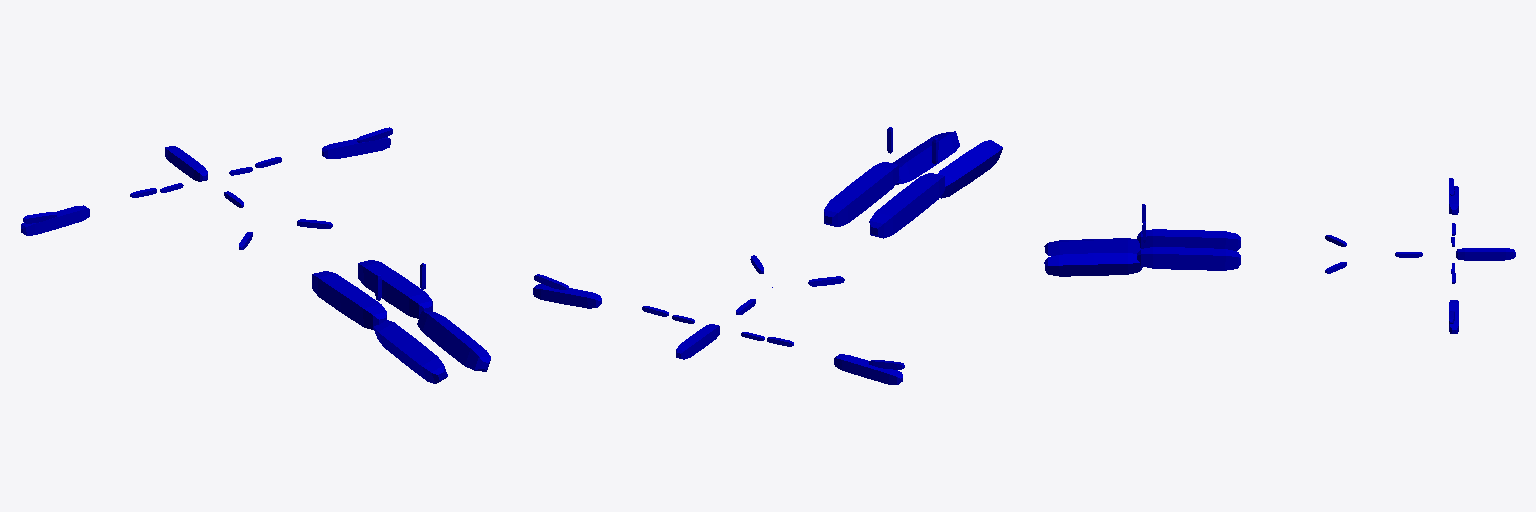
--- Facts derived from the render (not from the file) ---
Views: 3 orthographic renders of the robot side by side, from view 1: azimuth 30°, elevation 25°; view 2: azimuth 150°, elevation 25°; view 3: azimuth 270°, elevation 25°.
Model rocketbox_male with 64 links and 63 joints (57 revolute, 3 continuous, 3 prismatic), rooted at root_link, posed every joint at zero.
Links seen in each view (by area): view 1: RightLeg_x_link, LeftLeg_x_link, RightFoot_x_link, LeftFoot_x_link, RightForeArm_x_link, LeftForeArm_x_link, Spine1_x_link; view 2: RightLeg_x_link, LeftLeg_x_link, RightFoot_x_link, LeftFoot_x_link, RightForeArm_x_link, LeftForeArm_x_link, Spine1_x_link; view 3: LeftLeg_x_link, LeftFoot_x_link, RightLeg_x_link, RightFoot_x_link, Spine1_x_link.
Link boxes in pixels (left/top/right/bottom): RightLeg_x_link: left=312, top=271, right=386, bottom=329; LeftLeg_x_link: left=358, top=260, right=432, bottom=318; RightFoot_x_link: left=373, top=319, right=447, bottom=383; LeftFoot_x_link: left=417, top=311, right=490, bottom=371; RightForeArm_x_link: left=21, top=205, right=89, bottom=235; LeftForeArm_x_link: left=322, top=137, right=390, bottom=158; Spine1_x_link: left=165, top=146, right=207, bottom=181; RightLeg_x_link: left=869, top=173, right=944, bottom=238; LeftLeg_x_link: left=824, top=162, right=898, bottom=226; RightFoot_x_link: left=938, top=140, right=1002, bottom=198; LeftFoot_x_link: left=893, top=131, right=959, bottom=184; RightForeArm_x_link: left=834, top=354, right=902, bottom=384; LeftForeArm_x_link: left=533, top=284, right=601, bottom=308; Spine1_x_link: left=676, top=324, right=719, bottom=359; LeftLeg_x_link: left=1137, top=247, right=1240, bottom=270; LeftFoot_x_link: left=1044, top=253, right=1142, bottom=276; RightLeg_x_link: left=1137, top=229, right=1240, bottom=250; RightFoot_x_link: left=1044, top=238, right=1140, bottom=255; Spine1_x_link: left=1456, top=248, right=1515, bottom=260.
Size in the robot's own frame: 1.45 by 2.02 by 0.2526 metres.
Meshes: 19 distinct files referenced, 18 mesh visuals loaded (18 OBJ); not drawn: 1 (reference not matched to a file when rendering).

robot.urdf — rocketbox_male:
<?xml version="1.0"?>
<robot xmlns:sensor="http://playerstage.sourceforge.net/gazebo/xmlschema/#sensor"
       xmlns:controller="http://playerstage.sourceforge.net/gazebo/xmlschema/#controller"
       xmlns:interface="http://playerstage.sourceforge.net/gazebo/xmlschema/#interface"
       xmlns:xacro="http://playerstage.sourceforge.net/gazebo/xmlschema/#interface"
       name="rocketbox_male" >

    <material name="Blue">
      <color rgba="0.0 0.0 0.8 1.0"/>
    </material>
    <material name="Green">
      <color rgba="0.0 0.8 0.0 1.0"/>
    </material>
    <material name="Grey">
      <color rgba="0.7 0.7 0.7 1.0"/>
    </material>
    <material name="Grey2">
      <color rgba="0.9 0.9 0.9 1.0"/>
    </material>
    <material name="Red">
      <color rgba="0.8 0.0 0.0 1.0"/>
    </material>
    <material name="White">
      <color rgba="1.0 1.0 1.0 1.0"/>
    </material>
    <material name="Black">
      <color rgba="0.1 0.1 0.1 1.0"/>
    </material>
    <material name="LightGrey">
      <color rgba="0.6 0.6 0.6 1.0"/>
    </material>

    <link name="root_link"/>
      <link name="base_prismatic_dummy1">
        <visual>
          <origin rpy="0 0 0" xyz="0 0 0"/>
          <geometry>
            <box size="0.001 0.001 0.001"/>
          </geometry>
          <material name="Blue"/>
        </visual>
      </link>
      <link name="base_prismatic_dummy2">
        <visual>
          <origin rpy="0 0 0" xyz="0 0 0"/>
          <geometry>
            <box size="0.001 0.001 0.001"/>
          </geometry>
          <material name="Blue"/>
        </visual>
      </link>
      <link name="base_prismatic_dummy3">
        <visual>
          <origin rpy="0 0 0" xyz="0 0 0"/>
          <geometry>
            <box size="0.001 0.001 0.001"/>
          </geometry>
          <material name="Blue"/>
        </visual>
      </link>
      <link name="base_revolute_dummy1">
        <visual>
          <origin rpy="0 0 0" xyz="0 0 0"/>
          <geometry>
            <box size="0.001 0.001 0.001"/>
          </geometry>
          <material name="Blue"/>
        </visual>
      </link>
      <link name="base_revolute_dummy2">
        <visual>
          <origin rpy="0 0 0" xyz="0 0 0"/>
          <geometry>
            <box size="0.001 0.001 0.001"/>
          </geometry>
          <material name="Blue"/>
        </visual>
      </link>
      <joint name="base_prismatic_joint_x" type="prismatic">
        <axis xyz="1 0 0"/>
        <limit effort="10000" lower ="-5.0" upper="5.0" velocity ="0.6"/>
        <origin rpy="0 0 0" xyz="0 0 1.1713"/>
        <parent link="root_link"/>
        <child link="base_prismatic_dummy1"/>
      </joint>
      <joint name="base_prismatic_joint_y" type="prismatic">
        <axis xyz="0 1 0"/>
        <limit effort="10000" lower ="-5.0" upper="5.0" velocity ="0.6"/>
        <origin rpy="0 0 0" xyz="0 0 0"/>
        <parent link="base_prismatic_dummy1"/>
        <child link="base_prismatic_dummy2"/>
      </joint>
      <joint name="base_prismatic_joint_z" type="prismatic">
        <axis xyz="0 0 1"/>
        <limit effort="10000" lower ="-5.0" upper="5.0" velocity ="0.6"/>
        <origin rpy="0 0 0" xyz="0 0 0"/>
        <parent link="base_prismatic_dummy2"/>
        <child link="base_prismatic_dummy3"/>
      </joint>
      <joint name="base_revolute_joint_x" type="continuous">
        <axis xyz="1 0 0"/>
        <origin rpy="0 0 0" xyz="0 0 0"/>
        <parent link="base_prismatic_dummy3"/>
        <child link="base_revolute_dummy1"/>
      </joint>
      <joint name="base_revolute_joint_y" type="continuous">
        <axis xyz="0 1 0"/>
        <origin rpy="0 0 0" xyz="0 0 0"/>
        <parent link="base_revolute_dummy1"/>
        <child link="base_revolute_dummy2"/>
      </joint>
      <joint name="base_revolute_joint_z" type="continuous">
        <axis xyz="0 0 1"/>
        <origin rpy="0 0 0" xyz="0 0 0"/>
        <parent link="base_revolute_dummy2"/>
        <child link="pelvis_link"/>
      </joint>
      <link name="pelvis_link"/>
      <link name="RightUpLeg_z_link"/>
      <link name="RightUpLeg_y_link"/>
      <link name="RightUpLeg_x_link">
        <visual>
          <origin rpy="0 0 0" xyz="0 0 0"/>
          <geometry>
            <mesh filename="../rami/model/RightUpLeg.obj"/>
          </geometry>
          <material name="Blue"/>
        </visual>
        <collision>
          <origin rpy="0 0 0" xyz="0 0 0"/>
          <geometry>
            <mesh filename="../rami/model/RightUpLeg.obj"/>
          </geometry>
        </collision>
      </link>
      <joint name="RightUpLeg_z_joint" type ="revolute">
          <axis xyz="0 0 1"/>
          <limit effort="10000" lower ="-3.14" upper="3.14" velocity ="0.6"/>
          <origin rpy="0 0 0" xyz="-0.089458 -0.0866707 0.00101652"/>
          <parent link="pelvis_link"/>
          <child link="RightUpLeg_z_link"/>
      </joint>
      <joint name="RightUpLeg_y_joint" type ="revolute">
          <axis xyz="0 1 0"/>
          <limit effort="10000" lower ="-3.14" upper="3.14" velocity ="0.6"/>
          <origin rpy="0 0 0" xyz="0 0 0"/>
          <parent link="RightUpLeg_z_link"/>
          <child link="RightUpLeg_y_link"/>
      </joint>
      <joint name="RightUpLeg_x_joint" type ="revolute">
          <axis xyz="1 0 0"/>
          <limit effort="10000" lower ="-3.14" upper="3.14" velocity ="0.6"/>
          <origin rpy="0 0 0" xyz="0 0 0"/>
          <parent link="RightUpLeg_y_link"/>
          <child link="RightUpLeg_x_link"/>
      </joint>
      <link name="RightLeg_z_link"/>
      <link name="RightLeg_y_link"/>
      <link name="RightLeg_x_link">
        <visual>
          <origin rpy="0 0 0" xyz="0 0 0"/>
          <geometry>
            <mesh filename="../rami/model/RightLeg.obj"/>
          </geometry>
          <material name="Blue"/>
        </visual>
        <collision>
          <origin rpy="0 0 0" xyz="0 0 0"/>
          <geometry>
            <mesh filename="../rami/model/RightLeg.obj"/>
          </geometry>
        </collision>
      </link>
      <joint name="RightLeg_z_joint" type ="revolute">
          <axis xyz="0 0 1"/>
          <limit effort="10000" lower ="-3.14" upper="3.14" velocity ="0.6"/>
          <origin rpy="0 0 0" xyz="0 -0.444227 0.013727"/>
          <parent link="RightUpLeg_x_link"/>
          <child link="RightLeg_z_link"/>
      </joint>
      <joint name="RightLeg_y_joint" type ="revolute">
          <axis xyz="0 1 0"/>
          <limit effort="10000" lower ="-3.14" upper="3.14" velocity ="0.6"/>
          <origin rpy="0 0 0" xyz="0 0 0"/>
          <parent link="RightLeg_z_link"/>
          <child link="RightLeg_y_link"/>
      </joint>
      <joint name="RightLeg_x_joint" type ="revolute">
          <axis xyz="1 0 0"/>
          <limit effort="10000" lower ="-3.14" upper="3.14" velocity ="0.6"/>
          <origin rpy="0 0 0" xyz="0 0 0"/>
          <parent link="RightLeg_y_link"/>
          <child link="RightLeg_x_link"/>
      </joint>
      <link name="RightFoot_z_link"/>
      <link name="RightFoot_y_link"/>
      <link name="RightFoot_x_link">
        <visual>
          <origin rpy="0 0 0" xyz="0 0 0"/>
          <geometry>
            <mesh filename="../rami/model/RightFoot.obj"/>
          </geometry>
          <material name="Blue"/>
        </visual>
        <collision>
          <origin rpy="0 0 0" xyz="0 0 0"/>
          <geometry>
            <mesh filename="../rami/model/RightFoot.obj"/>
          </geometry>
        </collision>
      </link>
      <joint name="RightFoot_z_joint" type ="revolute">
          <axis xyz="0 0 1"/>
          <limit effort="10000" lower ="-3.14" upper="3.14" velocity ="0.6"/>
          <origin rpy="0 0 0" xyz="0.00253549 -0.420924 -0.0146059"/>
          <parent link="RightLeg_x_link"/>
          <child link="RightFoot_z_link"/>
      </joint>
      <joint name="RightFoot_y_joint" type ="revolute">
          <axis xyz="0 1 0"/>
          <limit effort="10000" lower ="-3.14" upper="3.14" velocity ="0.6"/>
          <origin rpy="0 0 0" xyz="0 0 0"/>
          <parent link="RightFoot_z_link"/>
          <child link="RightFoot_y_link"/>
      </joint>
      <joint name="RightFoot_x_joint" type ="revolute">
          <axis xyz="1 0 0"/>
          <limit effort="10000" lower ="-3.14" upper="3.14" velocity ="0.6"/>
          <origin rpy="0 0 0" xyz="0 0 0"/>
          <parent link="RightFoot_y_link"/>
          <child link="RightFoot_x_link"/>
      </joint>
      <link name="RightToes_z_link"/>
      <link name="RightToes_y_link"/>
      <link name="RightToes_x_link">
        <visual>
          <origin rpy="0 0 0" xyz="0 0 0"/>
          <geometry>
            <mesh filename="../rami/model/RightToes.obj"/>
          </geometry>
          <material name="Blue"/>
        </visual>
        <collision>
          <origin rpy="0 0 0" xyz="0 0 0"/>
          <geometry>
            <mesh filename="../rami/model/RightToes.obj"/>
          </geometry>
        </collision>
      </link>
      <joint name="RightToes_z_joint" type ="revolute">
          <axis xyz="0 0 1"/>
          <limit effort="10000" lower ="-3.14" upper="3.14" velocity ="0.6"/>
          <origin rpy="0 0 0" xyz="-0.0008 -0.00137448 0.0977979"/>
          <parent link="RightFoot_x_link"/>
          <child link="RightToes_z_link"/>
      </joint>
      <joint name="RightToes_y_joint" type ="revolute">
          <axis xyz="0 1 0"/>
          <limit effort="10000" lower ="-3.14" upper="3.14" velocity ="0.6"/>
          <origin rpy="0 0 0" xyz="0 0 0"/>
          <parent link="RightToes_z_link"/>
          <child link="RightToes_y_link"/>
      </joint>
      <joint name="RightToes_x_joint" type ="revolute">
          <axis xyz="1 0 0"/>
          <limit effort="10000" lower ="-3.14" upper="3.14" velocity ="0.6"/>
          <origin rpy="0 0 0" xyz="0 0 0"/>
          <parent link="RightToes_y_link"/>
          <child link="RightToes_x_link"/>
      </joint>
      <link name="Spine_z_link"/>
      <link name="Spine_y_link"/>
      <link name="Spine_x_link">
        <visual>
          <origin rpy="0 0 0" xyz="0 0 0"/>
          <geometry>
            <mesh filename="../rami/model/Spine.obj"/>
          </geometry>
          <material name="Blue"/>
        </visual>
        <collision>
          <origin rpy="0 0 0" xyz="0 0 0"/>
          <geometry>
            <mesh filename="../rami/model/Spine.obj"/>
          </geometry>
        </collision>
      </link>
      <joint name="Spine_z_joint" type ="revolute">
          <axis xyz="0 0 1"/>
          <limit effort="10000" lower ="-3.14" upper="3.14" velocity ="0.6"/>
          <origin rpy="0 0 0" xyz="0 0.118905 0"/>
          <parent link="pelvis_link"/>
          <child link="Spine_z_link"/>
      </joint>
      <joint name="Spine_y_joint" type ="revolute">
          <axis xyz="0 1 0"/>
          <limit effort="10000" lower ="-3.14" upper="3.14" velocity ="0.6"/>
          <origin rpy="0 0 0" xyz="0 0 0"/>
          <parent link="Spine_z_link"/>
          <child link="Spine_y_link"/>
      </joint>
      <joint name="Spine_x_joint" type ="revolute">
          <axis xyz="1 0 0"/>
          <limit effort="10000" lower ="-3.14" upper="3.14" velocity ="0.6"/>
          <origin rpy="0 0 0" xyz="0 0 0"/>
          <parent link="Spine_y_link"/>
          <child link="Spine_x_link"/>
      </joint>
      <link name="Spine1_z_link"/>
      <link name="Spine1_y_link"/>
      <link name="Spine1_x_link">
        <visual>
          <origin rpy="0 0 0" xyz="0 0 0"/>
          <geometry>
            <mesh filename="../rami/model/Spine1.obj"/>
          </geometry>
          <material name="Blue"/>
        </visual>
        <collision>
          <origin rpy="0 0 0" xyz="0 0 0"/>
          <geometry>
            <mesh filename="../rami/model/Spine1.obj"/>
          </geometry>
        </collision>
      </link>
      <joint name="Spine1_z_joint" type ="revolute">
          <axis xyz="0 0 1"/>
          <limit effort="10000" lower ="-3.14" upper="3.14" velocity ="0.6"/>
          <origin rpy="0 0 0" xyz="0 0.256574 0.00127663"/>
          <parent link="Spine_x_link"/>
          <child link="Spine1_z_link"/>
      </joint>
      <joint name="Spine1_y_joint" type ="revolute">
          <axis xyz="0 1 0"/>
          <limit effort="10000" lower ="-3.14" upper="3.14" velocity ="0.6"/>
          <origin rpy="0 0 0" xyz="0 0 0"/>
          <parent link="Spine1_z_link"/>
          <child link="Spine1_y_link"/>
      </joint>
      <joint name="Spine1_x_joint" type ="revolute">
          <axis xyz="1 0 0"/>
          <limit effort="10000" lower ="-3.14" upper="3.14" velocity ="0.6"/>
          <origin rpy="0 0 0" xyz="0 0 0"/>
          <parent link="Spine1_y_link"/>
          <child link="Spine1_x_link"/>
      </joint>
      <link name="HEad_z_link"/>
      <link name="HEad_y_link"/>
      <link name="HEad_x_link">
        <visual>
          <origin rpy="0 0 0" xyz="0 0 0"/>
          <geometry>
            <mesh filename="../rami/model/HEad.obj"/>
          </geometry>
          <material name="Blue"/>
        </visual>
        <collision>
          <origin rpy="0 0 0" xyz="0 0 0"/>
          <geometry>
            <mesh filename="../rami/model/HEad.obj"/>
          </geometry>
        </collision>
      </link>
      <joint name="HEad_z_joint" type ="revolute">
          <axis xyz="0 0 1"/>
          <limit effort="10000" lower ="-3.14" upper="3.14" velocity ="0.6"/>
          <origin rpy="0 0 0" xyz="-0.0029 0.127742 0.0251395"/>
          <parent link="Spine1_x_link"/>
          <child link="HEad_z_link"/>
      </joint>
      <joint name="HEad_y_joint" type ="revolute">
          <axis xyz="0 1 0"/>
          <limit effort="10000" lower ="-3.14" upper="3.14" velocity ="0.6"/>
          <origin rpy="0 0 0" xyz="0 0 0"/>
          <parent link="HEad_z_link"/>
          <child link="HEad_y_link"/>
      </joint>
      <joint name="HEad_x_joint" type ="revolute">
          <axis xyz="1 0 0"/>
          <limit effort="10000" lower ="-3.14" upper="3.14" velocity ="0.6"/>
          <origin rpy="0 0 0" xyz="0 0 0"/>
          <parent link="HEad_y_link"/>
          <child link="HEad_x_link"/>
      </joint>
      <link name="LeftShoulder1_z_link"/>
      <link name="LeftShoulder1_y_link"/>
      <link name="LeftShoulder1_x_link">
        <visual>
          <origin rpy="0 0 0" xyz="0 0 0"/>
          <geometry>
            <mesh filename="../rami/model/LeftShoulder1.obj"/>
          </geometry>
          <material name="Blue"/>
        </visual>
        <collision>
          <origin rpy="0 0 0" xyz="0 0 0"/>
          <geometry>
            <mesh filename="../rami/model/LeftShoulder1.obj"/>
          </geometry>
        </collision>
      </link>
      <joint name="LeftShoulder1_z_joint" type ="revolute">
          <axis xyz="0 0 1"/>
          <limit effort="10000" lower ="-3.14" upper="3.14" velocity ="0.6"/>
          <origin rpy="0 0 0" xyz="0.0899 -0.00362252 -0.0022"/>
          <parent link="Spine1_x_link"/>
          <child link="LeftShoulder1_z_link"/>
      </joint>
      <joint name="LeftShoulder1_y_joint" type ="revolute">
          <axis xyz="0 1 0"/>
          <limit effort="10000" lower ="-3.14" upper="3.14" velocity ="0.6"/>
          <origin rpy="0 0 0" xyz="0 0 0"/>
          <parent link="LeftShoulder1_z_link"/>
          <child link="LeftShoulder1_y_link"/>
      </joint>
      <joint name="LeftShoulder1_x_joint" type ="revolute">
          <axis xyz="1 0 0"/>
          <limit effort="10000" lower ="-3.14" upper="3.14" velocity ="0.6"/>
          <origin rpy="0 0 0" xyz="0 0 0"/>
          <parent link="LeftShoulder1_y_link"/>
          <child link="LeftShoulder1_x_link"/>
      </joint>
      <link name="LeftArm_z_link"/>
      <link name="LeftArm_y_link"/>
      <link name="LeftArm_x_link">
        <visual>
          <origin rpy="0 0 0" xyz="0 0 0"/>
          <geometry>
            <mesh filename="../rami/model/LeftArm.obj"/>
          </geometry>
          <material name="Blue"/>
        </visual>
        <collision>
          <origin rpy="0 0 0" xyz="0 0 0"/>
          <geometry>
            <mesh filename="../rami/model/LeftArm.obj"/>
          </geometry>
        </collision>
      </link>
      <joint name="LeftArm_z_joint" type ="revolute">
          <axis xyz="0 0 1"/>
          <limit effort="10000" lower ="-3.14" upper="3.14" velocity ="0.6"/>
          <origin rpy="0 0 0" xyz="0.102827 -3.37999e-05 0.00322123"/>
          <parent link="LeftShoulder1_x_link"/>
          <child link="LeftArm_z_link"/>
      </joint>
      <joint name="LeftArm_y_joint" type ="revolute">
          <axis xyz="0 1 0"/>
          <limit effort="10000" lower ="-3.14" upper="3.14" velocity ="0.6"/>
          <origin rpy="0 0 0" xyz="0 0 0"/>
          <parent link="LeftArm_z_link"/>
          <child link="LeftArm_y_link"/>
      </joint>
      <joint name="LeftArm_x_joint" type ="revolute">
          <axis xyz="1 0 0"/>
          <limit effort="10000" lower ="-3.14" upper="3.14" velocity ="0.6"/>
          <origin rpy="0 0 0" xyz="0 0 0"/>
          <parent link="LeftArm_y_link"/>
          <child link="LeftArm_x_link"/>
      </joint>
      <link name="LeftForeArm_z_link"/>
      <link name="LeftForeArm_y_link"/>
      <link name="LeftForeArm_x_link">
        <visual>
          <origin rpy="0 0 0" xyz="0 0 0"/>
          <geometry>
            <mesh filename="../rami/model/LeftForeArm.obj"/>
          </geometry>
          <material name="Blue"/>
        </visual>
        <collision>
          <origin rpy="0 0 0" xyz="0 0 0"/>
          <geometry>
            <mesh filename="../rami/model/LeftForeArm.obj"/>
          </geometry>
        </collision>
      </link>
      <joint name="LeftForeArm_z_joint" type ="revolute">
          <axis xyz="0 0 1"/>
          <limit effort="10000" lower ="-3.14" upper="3.14" velocity ="0.6"/>
          <origin rpy="0 0 0" xyz="0.262597 0.00099144 -0.0142434"/>
          <parent link="LeftArm_x_link"/>
          <child link="LeftForeArm_z_link"/>
      </joint>
      <joint name="LeftForeArm_y_joint" type ="revolute">
          <axis xyz="0 1 0"/>
          <limit effort="10000" lower ="-3.14" upper="3.14" velocity ="0.6"/>
          <origin rpy="0 0 0" xyz="0 0 0"/>
          <parent link="LeftForeArm_z_link"/>
          <child link="LeftForeArm_y_link"/>
      </joint>
      <joint name="LeftForeArm_x_joint" type ="revolute">
          <axis xyz="1 0 0"/>
          <limit effort="10000" lower ="-3.14" upper="3.14" velocity ="0.6"/>
          <origin rpy="0 0 0" xyz="0 0 0"/>
          <parent link="LeftForeArm_y_link"/>
          <child link="LeftForeArm_x_link"/>
      </joint>
      <link name="LeftHand_z_link"/>
      <link name="LeftHand_y_link"/>
      <link name="LeftHand_x_link">
        <visual>
          <origin rpy="0 0 0" xyz="0 0 0"/>
          <geometry>
            <mesh filename="../rami/model/LeftHand.obj"/>
          </geometry>
          <material name="Blue"/>
        </visual>
        <collision>
          <origin rpy="0 0 0" xyz="0 0 0"/>
          <geometry>
            <mesh filename="../rami/model/LeftHand.obj"/>
          </geometry>
        </collision>
      </link>
      <joint name="LeftHand_z_joint" type ="revolute">
          <axis xyz="0 0 1"/>
          <limit effort="10000" lower ="-3.14" upper="3.14" velocity ="0.6"/>
          <origin rpy="0 0 0" xyz="0.134179 -0.00600076 0.0150291"/>
          <parent link="LeftForeArm_x_link"/>
          <child link="LeftHand_z_link"/>
      </joint>
      <joint name="LeftHand_y_joint" type ="revolute">
          <axis xyz="0 1 0"/>
          <limit effort="10000" lower ="-3.14" upper="3.14" velocity ="0.6"/>
          <origin rpy="0 0 0" xyz="0 0 0"/>
          <parent link="LeftHand_z_link"/>
          <child link="LeftHand_y_link"/>
      </joint>
      <joint name="LeftHand_x_joint" type ="revolute">
          <axis xyz="1 0 0"/>
          <limit effort="10000" lower ="-3.14" upper="3.14" velocity ="0.6"/>
          <origin rpy="0 0 0" xyz="0 0 0"/>
          <parent link="LeftHand_y_link"/>
          <child link="LeftHand_x_link"/>
      </joint>
      <link name="RightShoulder_z_link"/>
      <link name="RightShoulder_y_link"/>
      <link name="RightShoulder_x_link">
        <visual>
          <origin rpy="0 0 0" xyz="0 0 0"/>
          <geometry>
            <mesh filename="../rami/model/RightShoulder.obj"/>
          </geometry>
          <material name="Blue"/>
        </visual>
        <collision>
          <origin rpy="0 0 0" xyz="0 0 0"/>
          <geometry>
            <mesh filename="../rami/model/RightShoulder.obj"/>
          </geometry>
        </collision>
      </link>
      <joint name="RightShoulder_z_joint" type ="revolute">
          <axis xyz="0 0 1"/>
          <limit effort="10000" lower ="-3.14" upper="3.14" velocity ="0.6"/>
          <origin rpy="0 0 0" xyz="-0.0899 -0.00362252 -0.0022"/>
          <parent link="Spine1_x_link"/>
          <child link="RightShoulder_z_link"/>
      </joint>
      <joint name="RightShoulder_y_joint" type ="revolute">
          <axis xyz="0 1 0"/>
          <limit effort="10000" lower ="-3.14" upper="3.14" velocity ="0.6"/>
          <origin rpy="0 0 0" xyz="0 0 0"/>
          <parent link="RightShoulder_z_link"/>
          <child link="RightShoulder_y_link"/>
      </joint>
      <joint name="RightShoulder_x_joint" type ="revolute">
          <axis xyz="1 0 0"/>
          <limit effort="10000" lower ="-3.14" upper="3.14" velocity ="0.6"/>
          <origin rpy="0 0 0" xyz="0 0 0"/>
          <parent link="RightShoulder_y_link"/>
          <child link="RightShoulder_x_link"/>
      </joint>
      <link name="RightArm_z_link"/>
      <link name="RightArm_y_link"/>
      <link name="RightArm_x_link">
        <visual>
          <origin rpy="0 0 0" xyz="0 0 0"/>
          <geometry>
            <mesh filename="../rami/model/RightArm.obj"/>
          </geometry>
          <material name="Blue"/>
        </visual>
        <collision>
          <origin rpy="0 0 0" xyz="0 0 0"/>
          <geometry>
            <mesh filename="../rami/model/RightArm.obj"/>
          </geometry>
        </collision>
      </link>
      <joint name="RightArm_z_joint" type ="revolute">
          <axis xyz="0 0 1"/>
          <limit effort="10000" lower ="-3.14" upper="3.14" velocity ="0.6"/>
          <origin rpy="0 0 0" xyz="-0.102827 -3.38e-05 0.00322123"/>
          <parent link="RightShoulder_x_link"/>
          <child link="RightArm_z_link"/>
      </joint>
      <joint name="RightArm_y_joint" type ="revolute">
          <axis xyz="0 1 0"/>
          <limit effort="10000" lower ="-3.14" upper="3.14" velocity ="0.6"/>
          <origin rpy="0 0 0" xyz="0 0 0"/>
          <parent link="RightArm_z_link"/>
          <child link="RightArm_y_link"/>
      </joint>
      <joint name="RightArm_x_joint" type ="revolute">
          <axis xyz="1 0 0"/>
          <limit effort="10000" lower ="-3.14" upper="3.14" velocity ="0.6"/>
          <origin rpy="0 0 0" xyz="0 0 0"/>
          <parent link="RightArm_y_link"/>
          <child link="RightArm_x_link"/>
      </joint>
      <link name="RightForeArm_z_link"/>
      <link name="RightForeArm_y_link"/>
      <link name="RightForeArm_x_link">
        <visual>
          <origin rpy="0 0 0" xyz="0 0 0"/>
          <geometry>
            <mesh filename="../rami/model/RightForeArm.obj"/>
          </geometry>
          <material name="Blue"/>
        </visual>
        <collision>
          <origin rpy="0 0 0" xyz="0 0 0"/>
          <geometry>
            <mesh filename="../rami/model/RightForeArm.obj"/>
          </geometry>
        </collision>
      </link>
      <joint name="RightForeArm_z_joint" type ="revolute">
          <axis xyz="0 0 1"/>
          <limit effort="10000" lower ="-3.14" upper="3.14" velocity ="0.6"/>
          <origin rpy="0 0 0" xyz="-0.26364 0.00099144 -0.0142434"/>
          <parent link="RightArm_x_link"/>
          <child link="RightForeArm_z_link"/>
      </joint>
      <joint name="RightForeArm_y_joint" type ="revolute">
          <axis xyz="0 1 0"/>
          <limit effort="10000" lower ="-3.14" upper="3.14" velocity ="0.6"/>
          <origin rpy="0 0 0" xyz="0 0 0"/>
          <parent link="RightForeArm_z_link"/>
          <child link="RightForeArm_y_link"/>
      </joint>
      <joint name="RightForeArm_x_joint" type ="revolute">
          <axis xyz="1 0 0"/>
          <limit effort="10000" lower ="-3.14" upper="3.14" velocity ="0.6"/>
          <origin rpy="0 0 0" xyz="0 0 0"/>
          <parent link="RightForeArm_y_link"/>
          <child link="RightForeArm_x_link"/>
      </joint>
      <link name="RightHand_z_link"/>
      <link name="RightHand_y_link"/>
      <link name="RightHand_x_link">
        <visual>
          <origin rpy="0 0 0" xyz="0 0 0"/>
          <geometry>
            <mesh filename="../rami/model/RightHand.obj"/>
          </geometry>
          <material name="Blue"/>
        </visual>
        <collision>
          <origin rpy="0 0 0" xyz="0 0 0"/>
          <geometry>
            <mesh filename="../rami/model/RightHand.obj"/>
          </geometry>
        </collision>
      </link>
      <joint name="RightHand_z_joint" type ="revolute">
          <axis xyz="0 0 1"/>
          <limit effort="10000" lower ="-3.14" upper="3.14" velocity ="0.6"/>
          <origin rpy="0 0 0" xyz="-0.133273 -0.00600075 0.0150291"/>
          <parent link="RightForeArm_x_link"/>
          <child link="RightHand_z_link"/>
      </joint>
      <joint name="RightHand_y_joint" type ="revolute">
          <axis xyz="0 1 0"/>
          <limit effort="10000" lower ="-3.14" upper="3.14" velocity ="0.6"/>
          <origin rpy="0 0 0" xyz="0 0 0"/>
          <parent link="RightHand_z_link"/>
          <child link="RightHand_y_link"/>
      </joint>
      <joint name="RightHand_x_joint" type ="revolute">
          <axis xyz="1 0 0"/>
          <limit effort="10000" lower ="-3.14" upper="3.14" velocity ="0.6"/>
          <origin rpy="0 0 0" xyz="0 0 0"/>
          <parent link="RightHand_y_link"/>
          <child link="RightHand_x_link"/>
      </joint>
      <link name="LeftUpLeg_z_link"/>
      <link name="LeftUpLeg_y_link"/>
      <link name="LeftUpLeg_x_link">
        <visual>
          <origin rpy="0 0 0" xyz="0 0 0"/>
          <geometry>
            <mesh filename="../rami/model/LeftUpLeg.obj"/>
          </geometry>
          <material name="Blue"/>
        </visual>
        <collision>
          <origin rpy="0 0 0" xyz="0 0 0"/>
          <geometry>
            <mesh filename="../rami/model/LeftUpLeg.obj"/>
          </geometry>
        </collision>
      </link>
      <joint name="LeftUpLeg_z_joint" type ="revolute">
          <axis xyz="0 0 1"/>
          <limit effort="10000" lower ="-3.14" upper="3.14" velocity ="0.6"/>
          <origin rpy="0 0 0" xyz="0.089458 -0.0866707 0.00101652"/>
          <parent link="pelvis_link"/>
          <child link="LeftUpLeg_z_link"/>
      </joint>
      <joint name="LeftUpLeg_y_joint" type ="revolute">
          <axis xyz="0 1 0"/>
          <limit effort="10000" lower ="-3.14" upper="3.14" velocity ="0.6"/>
          <origin rpy="0 0 0" xyz="0 0 0"/>
          <parent link="LeftUpLeg_z_link"/>
          <child link="LeftUpLeg_y_link"/>
      </joint>
      <joint name="LeftUpLeg_x_joint" type ="revolute">
          <axis xyz="1 0 0"/>
          <limit effort="10000" lower ="-3.14" upper="3.14" velocity ="0.6"/>
          <origin rpy="0 0 0" xyz="0 0 0"/>
          <parent link="LeftUpLeg_y_link"/>
          <child link="LeftUpLeg_x_link"/>
      </joint>
      <link name="LeftLeg_z_link"/>
      <link name="LeftLeg_y_link"/>
      <link name="LeftLeg_x_link">
        <visual>
          <origin rpy="0 0 0" xyz="0 0 0"/>
          <geometry>
            <mesh filename="../rami/model/LeftLeg.obj"/>
          </geometry>
          <material name="Blue"/>
        </visual>
        <collision>
          <origin rpy="0 0 0" xyz="0 0 0"/>
          <geometry>
            <mesh filename="../rami/model/LeftLeg.obj"/>
          </geometry>
        </collision>
      </link>
      <joint name="LeftLeg_z_joint" type ="revolute">
          <axis xyz="0 0 1"/>
          <limit effort="10000" lower ="-3.14" upper="3.14" velocity ="0.6"/>
          <origin rpy="0 0 0" xyz="0 -0.444227 0.013727"/>
          <parent link="LeftUpLeg_x_link"/>
          <child link="LeftLeg_z_link"/>
      </joint>
      <joint name="LeftLeg_y_joint" type ="revolute">
          <axis xyz="0 1 0"/>
          <limit effort="10000" lower ="-3.14" upper="3.14" velocity ="0.6"/>
          <origin rpy="0 0 0" xyz="0 0 0"/>
          <parent link="LeftLeg_z_link"/>
          <child link="LeftLeg_y_link"/>
      </joint>
      <joint name="LeftLeg_x_joint" type ="revolute">
          <axis xyz="1 0 0"/>
          <limit effort="10000" lower ="-3.14" upper="3.14" velocity ="0.6"/>
          <origin rpy="0 0 0" xyz="0 0 0"/>
          <parent link="LeftLeg_y_link"/>
          <child link="LeftLeg_x_link"/>
      </joint>
      <link name="LeftFoot_z_link"/>
      <link name="LeftFoot_y_link"/>
      <link name="LeftFoot_x_link">
        <visual>
          <origin rpy="0 0 0" xyz="0 0 0"/>
          <geometry>
            <mesh filename="../rami/model/LeftFoot.obj"/>
          </geometry>
          <material name="Blue"/>
        </visual>
        <collision>
          <origin rpy="0 0 0" xyz="0 0 0"/>
          <geometry>
            <mesh filename="../rami/model/LeftFoot.obj"/>
          </geometry>
        </collision>
      </link>
      <joint name="LeftFoot_z_joint" type ="revolute">
          <axis xyz="0 0 1"/>
          <limit effort="10000" lower ="-3.14" upper="3.14" velocity ="0.6"/>
          <origin rpy="0 0 0" xyz="-0.00253549 -0.420924 -0.0146059"/>
          <parent link="LeftLeg_x_link"/>
          <child link="LeftFoot_z_link"/>
      </joint>
      <joint name="LeftFoot_y_joint" type ="revolute">
          <axis xyz="0 1 0"/>
          <limit effort="10000" lower ="-3.14" upper="3.14" velocity ="0.6"/>
          <origin rpy="0 0 0" xyz="0 0 0"/>
          <parent link="LeftFoot_z_link"/>
          <child link="LeftFoot_y_link"/>
      </joint>
      <joint name="LeftFoot_x_joint" type ="revolute">
          <axis xyz="1 0 0"/>
          <limit effort="10000" lower ="-3.14" upper="3.14" velocity ="0.6"/>
          <origin rpy="0 0 0" xyz="0 0 0"/>
          <parent link="LeftFoot_y_link"/>
          <child link="LeftFoot_x_link"/>
      </joint>
      <link name="LeftToes_z_link"/>
      <link name="LeftToes_y_link"/>
      <link name="LeftToes_x_link">
        <visual>
          <origin rpy="0 0 0" xyz="0 0 0"/>
          <geometry>
            <mesh filename="../rami/model/LeftToes.obj"/>
          </geometry>
          <material name="Blue"/>
        </visual>
        <collision>
          <origin rpy="0 0 0" xyz="0 0 0"/>
          <geometry>
            <mesh filename="../rami/model/LeftToes.obj"/>
          </geometry>
        </collision>
      </link>
      <joint name="LeftToes_z_joint" type ="revolute">
          <axis xyz="0 0 1"/>
          <limit effort="10000" lower ="-3.14" upper="3.14" velocity ="0.6"/>
          <origin rpy="0 0 0" xyz="0.0008 -0.00047448 0.0977979"/>
          <parent link="LeftFoot_x_link"/>
          <child link="LeftToes_z_link"/>
      </joint>
      <joint name="LeftToes_y_joint" type ="revolute">
          <axis xyz="0 1 0"/>
          <limit effort="10000" lower ="-3.14" upper="3.14" velocity ="0.6"/>
          <origin rpy="0 0 0" xyz="0 0 0"/>
          <parent link="LeftToes_z_link"/>
          <child link="LeftToes_y_link"/>
      </joint>
      <joint name="LeftToes_x_joint" type ="revolute">
          <axis xyz="1 0 0"/>
          <limit effort="10000" lower ="-3.14" upper="3.14" velocity ="0.6"/>
          <origin rpy="0 0 0" xyz="0 0 0"/>
          <parent link="LeftToes_y_link"/>
          <child link="LeftToes_x_link"/>
      </joint>

</robot>
